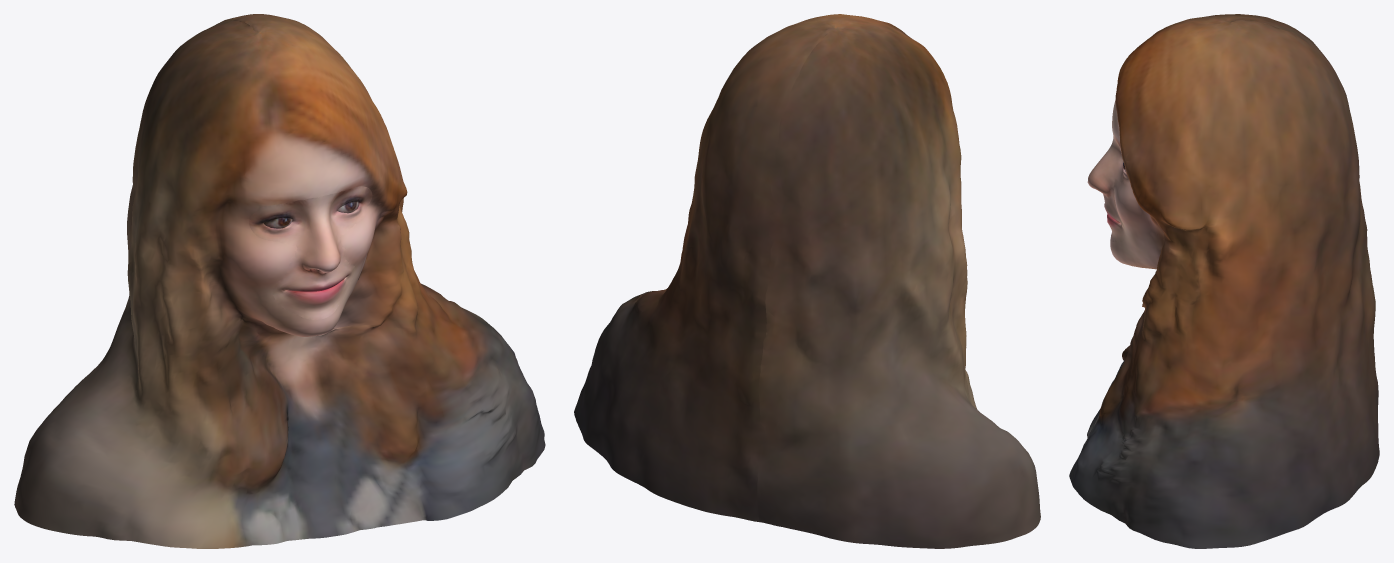
File: AnaGarza.gltf
3 views of the same model, side by side, from view 1: azimuth 30°, elevation 25°; view 2: azimuth 150°, elevation 25°; view 3: azimuth 270°, elevation 25° (orthographic). The views are drawn at different scales.
Parts seen in each view (by area): view 1: AnaGarza; view 2: AnaGarza; view 3: AnaGarza.
Part boxes in pixels (x1,y1,x2,y2): AnaGarza: (14, 14, 545, 548); AnaGarza: (574, 14, 1040, 548); AnaGarza: (1069, 14, 1379, 548).
Bounding box in the file's own units: 9.25 × 8.22 × 5.62.
1 material, 1 textured.
